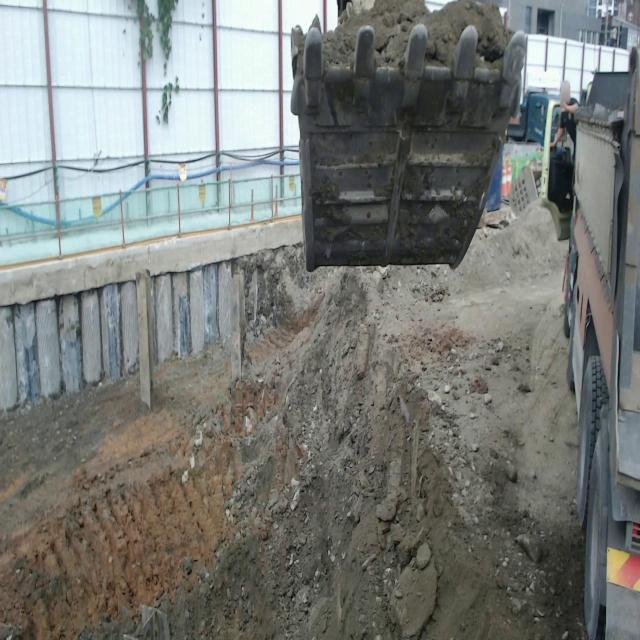cement: (0, 217, 302, 305)
red-sand: (0, 204, 584, 639), (324, 0, 512, 68)
